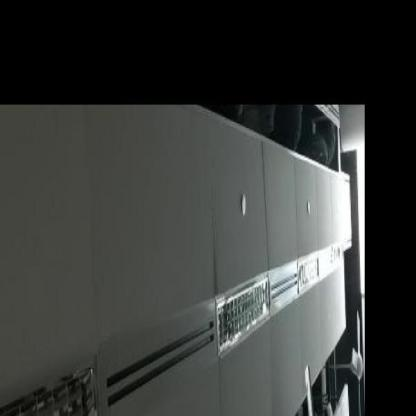light_off: (197, 242, 278, 371), (0, 340, 103, 414)
